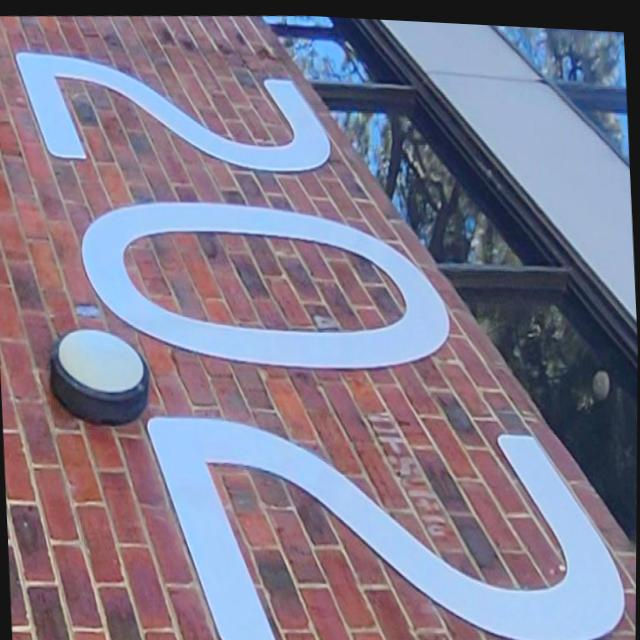character: (137, 382, 635, 640), (72, 173, 458, 396), (7, 25, 338, 205)
